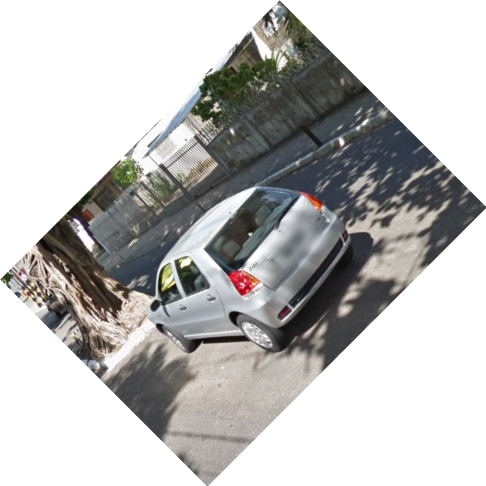car: (143, 179, 360, 374)
